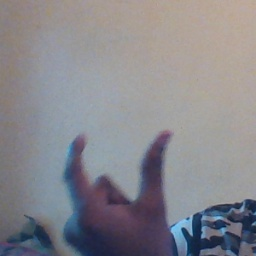U: (60, 127, 178, 256)
